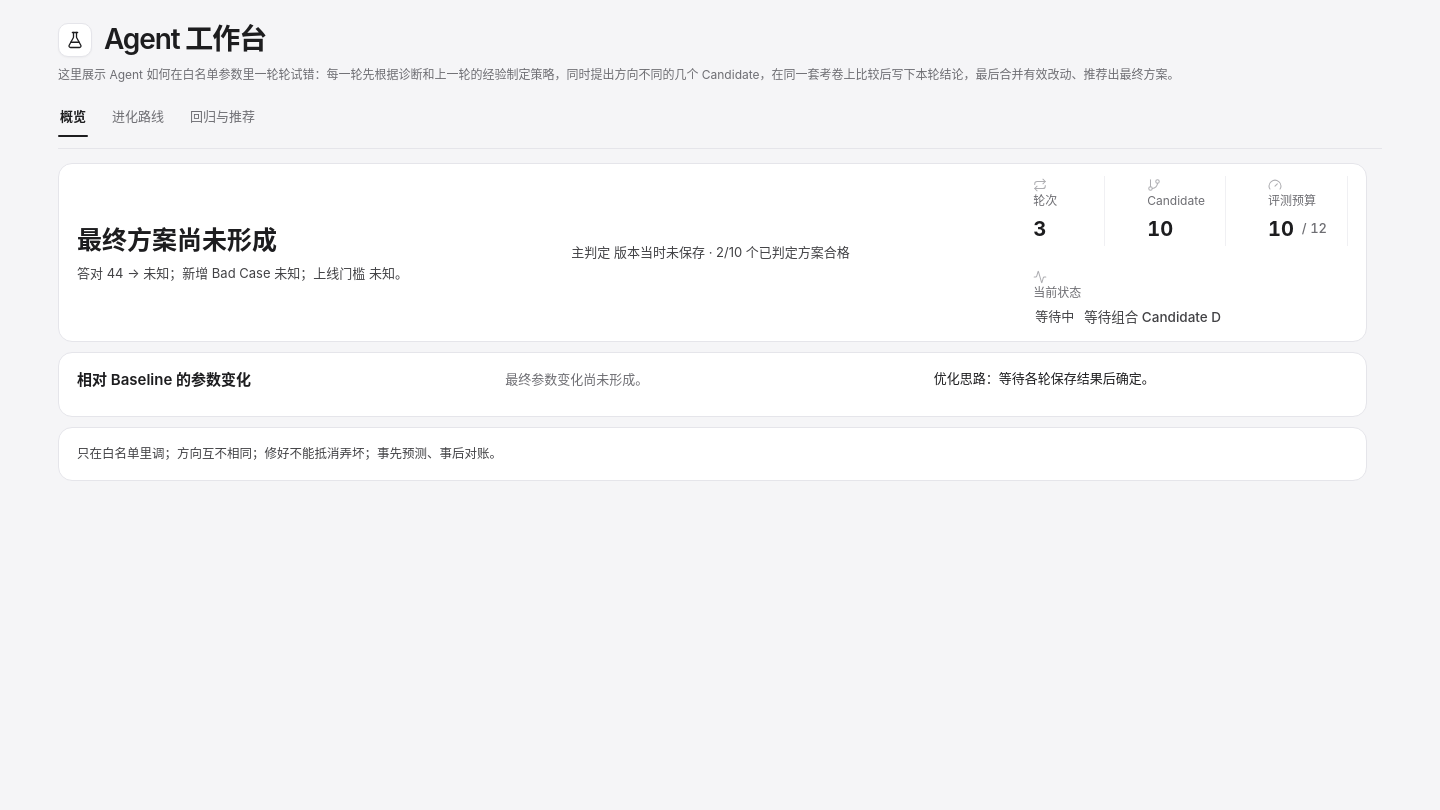
shows saved numeric Sandbox metrics, highlights Winner/D, keeps round switching and denominator details
Step 1. Click the button "进化路线" → (138, 116), box [110,96,166,136]
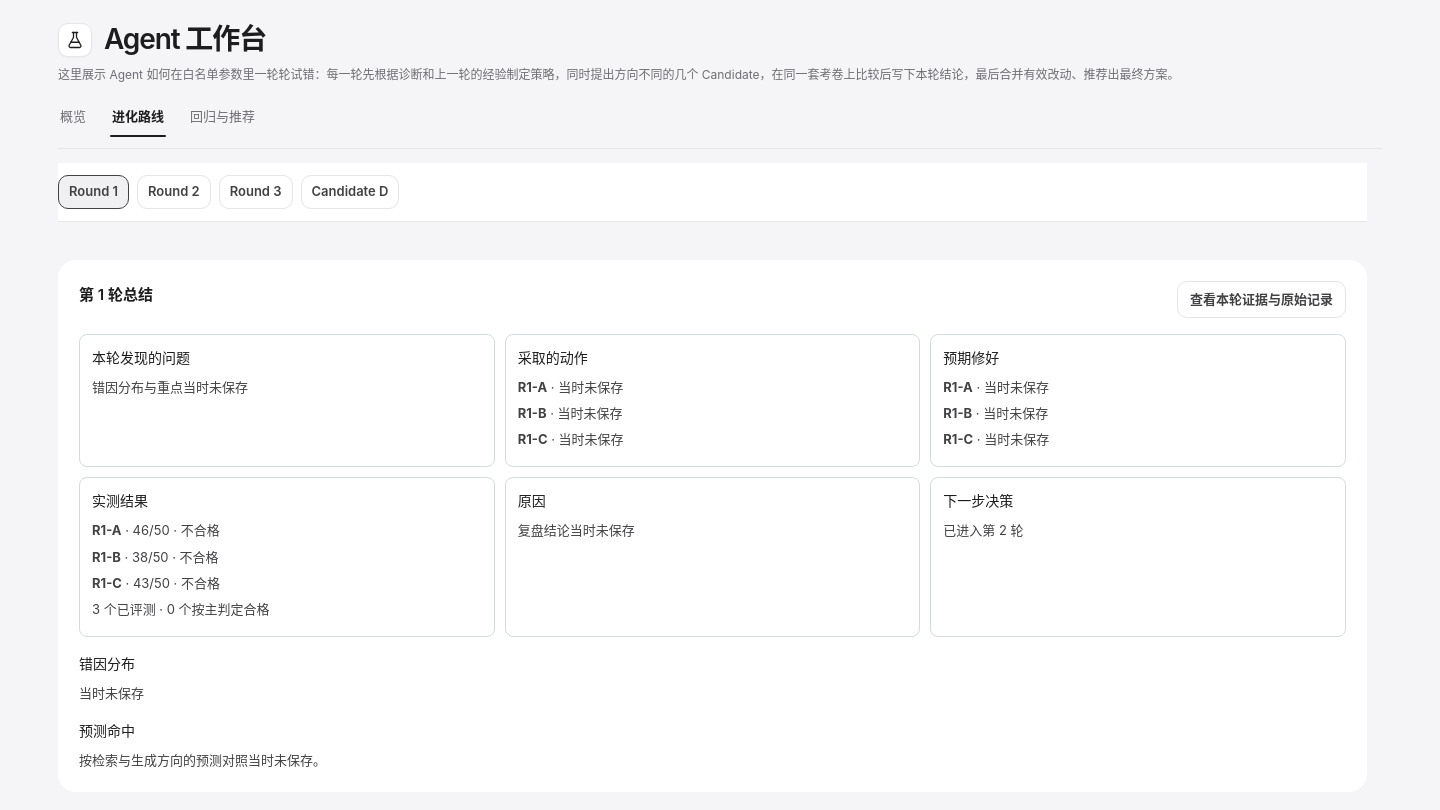
Step 2. Click the button "Round 3" → (256, 192), box [219,175,292,209]
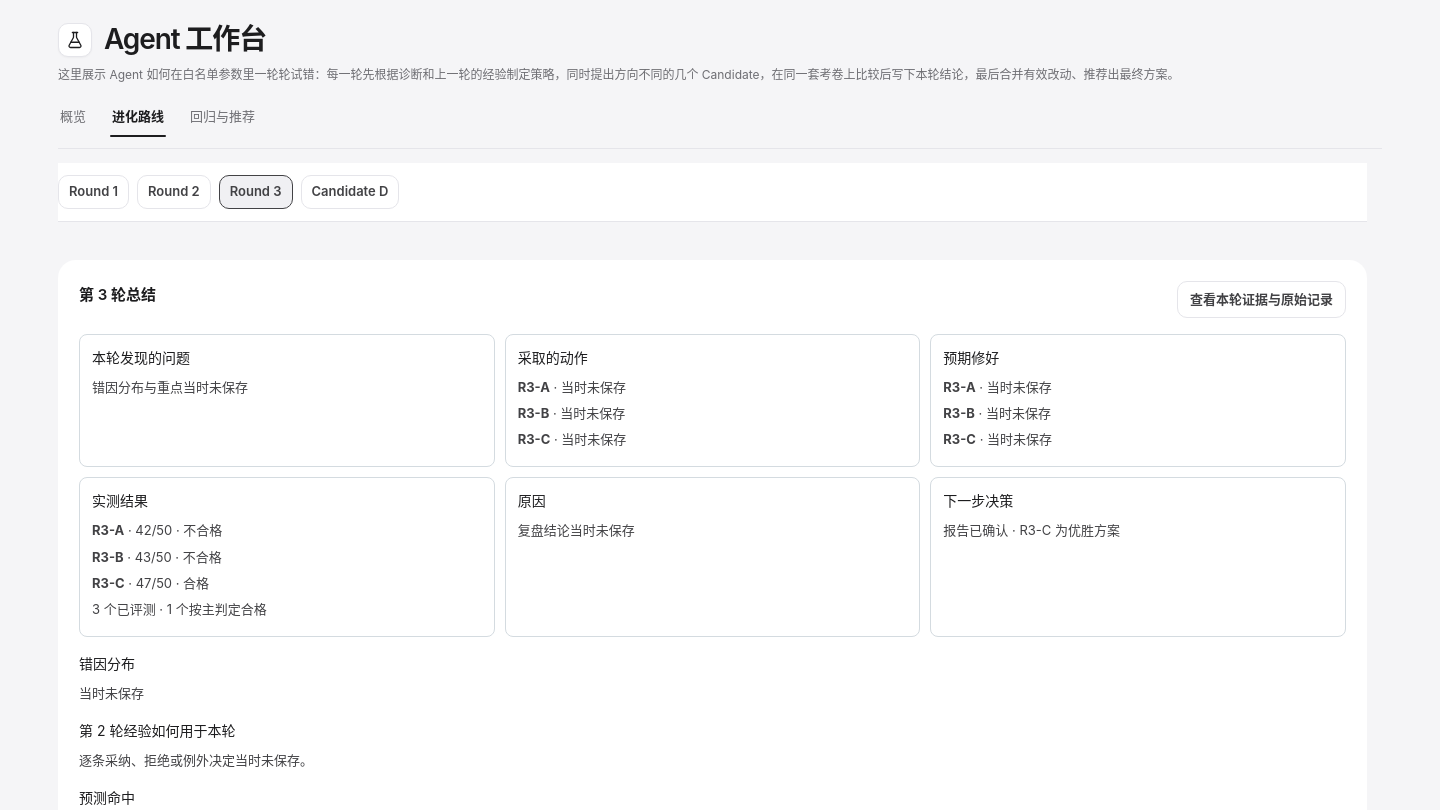
Step 3. Click the button "Round 1" → (94, 192), box [58,175,129,209]
(page scrolled)
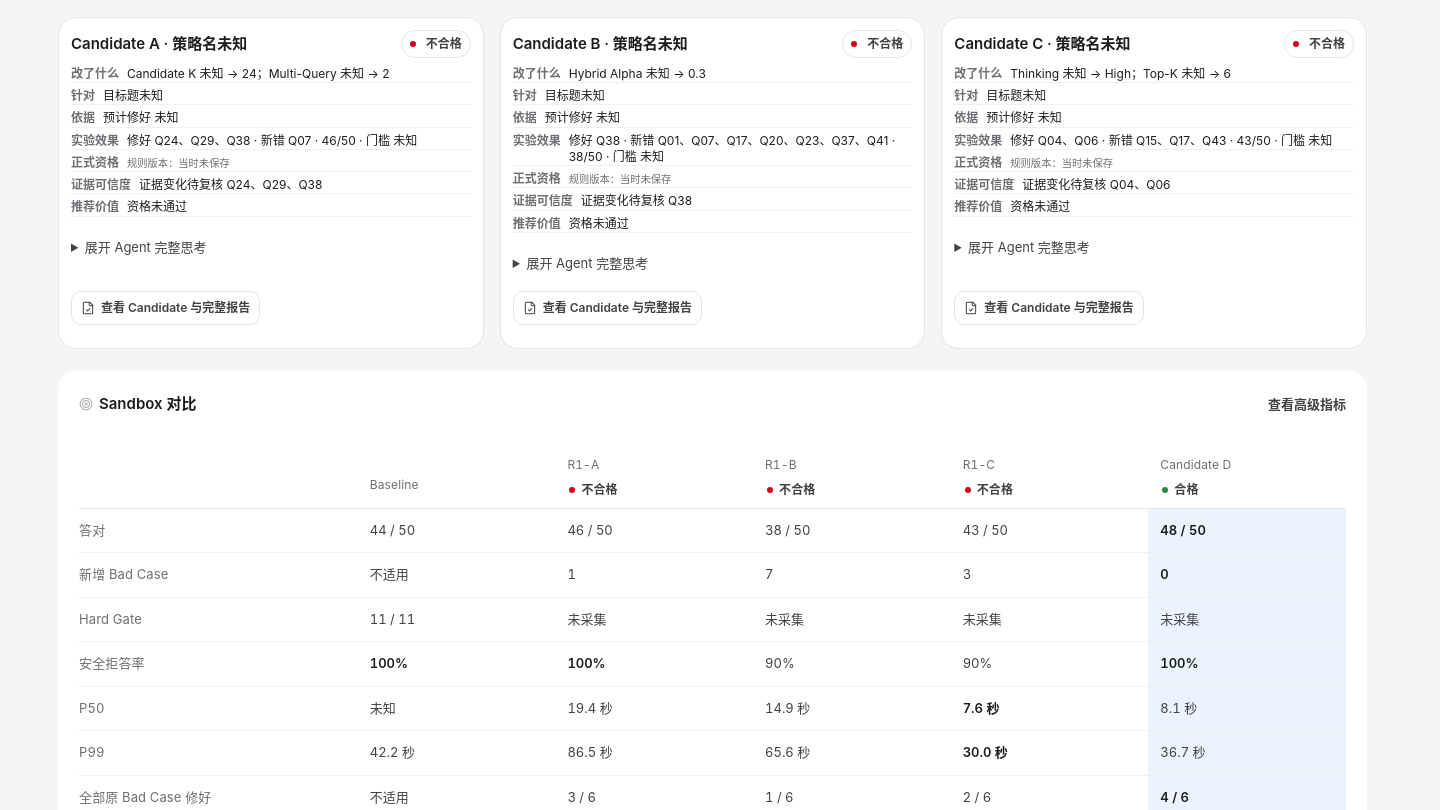
expect the element with class "ui-ct" shows "R1-A": met, box [567,457,599,472]
Step 4. Click the button "查看高级指标" → (1307, 405), box [1268,392,1346,418]
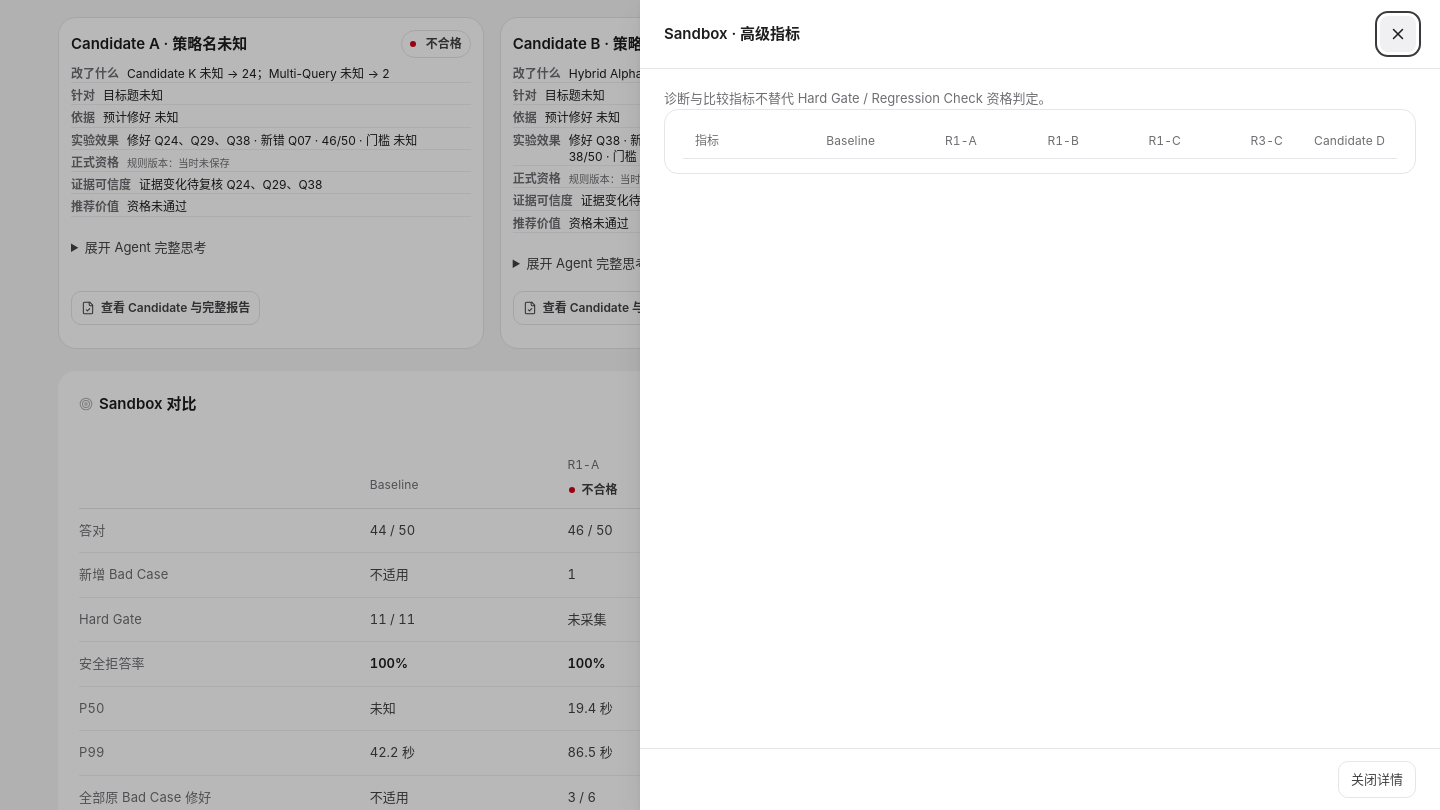
expect the dialog is shown: met, box [640,0,1439,809]
